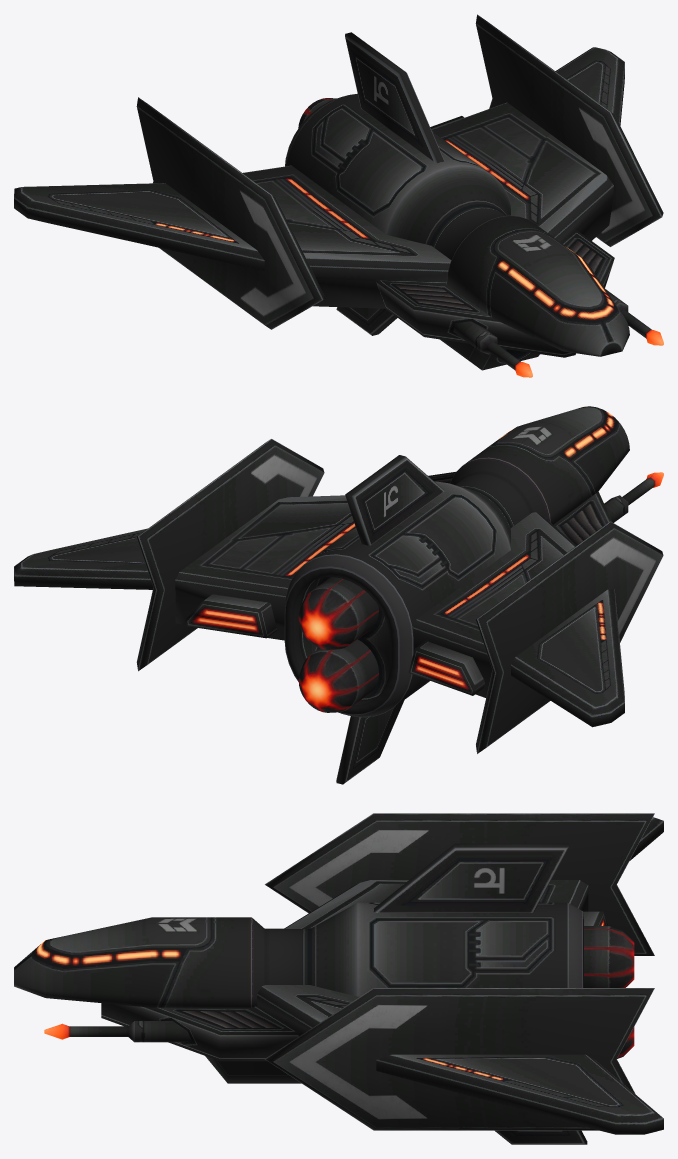
The model's file is Jupiter.glb.
3 views of the same model, one above another, from view 1: azimuth 30°, elevation 25°; view 2: azimuth 150°, elevation 25°; view 3: azimuth 270°, elevation 25° (orthographic). The views are drawn at different scales.
Parts seen in each view (by area): view 1: Mesh; view 2: Mesh; view 3: Mesh.
Boxes of the visible parts, x1,y1,x2,y2 form: Mesh: [14, 14, 663, 377]; Mesh: [14, 406, 663, 784]; Mesh: [14, 813, 663, 1144].
Size of the model in its own units: 2.25 by 1.01 by 2.01.
Materials: 1 (1 with a texture image).
